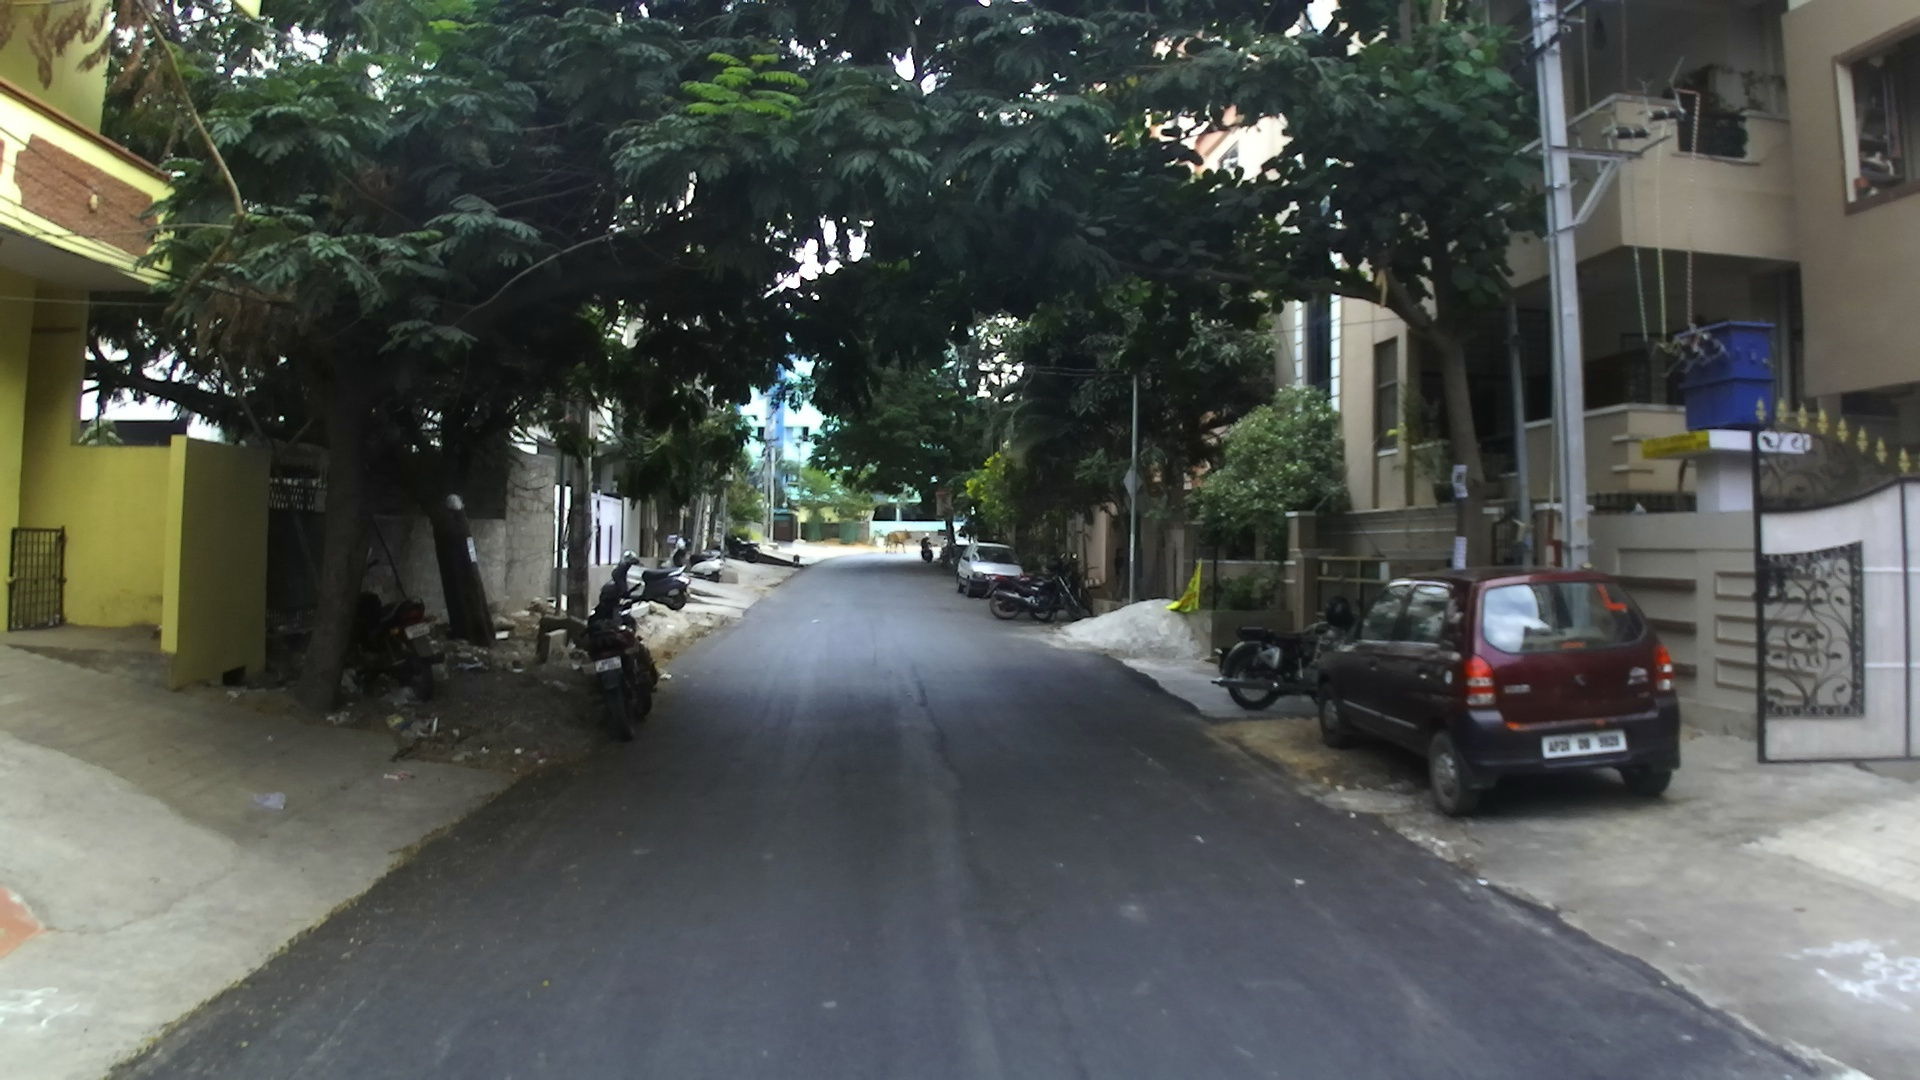vehicle: (1307, 572, 1687, 819), (541, 611, 658, 741), (582, 612, 659, 738), (992, 575, 1077, 618), (956, 543, 1025, 597)
